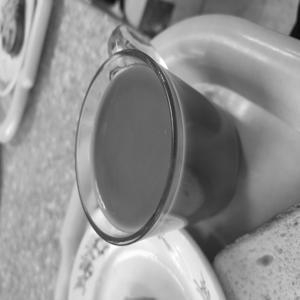coffee: (59, 41, 256, 247)
